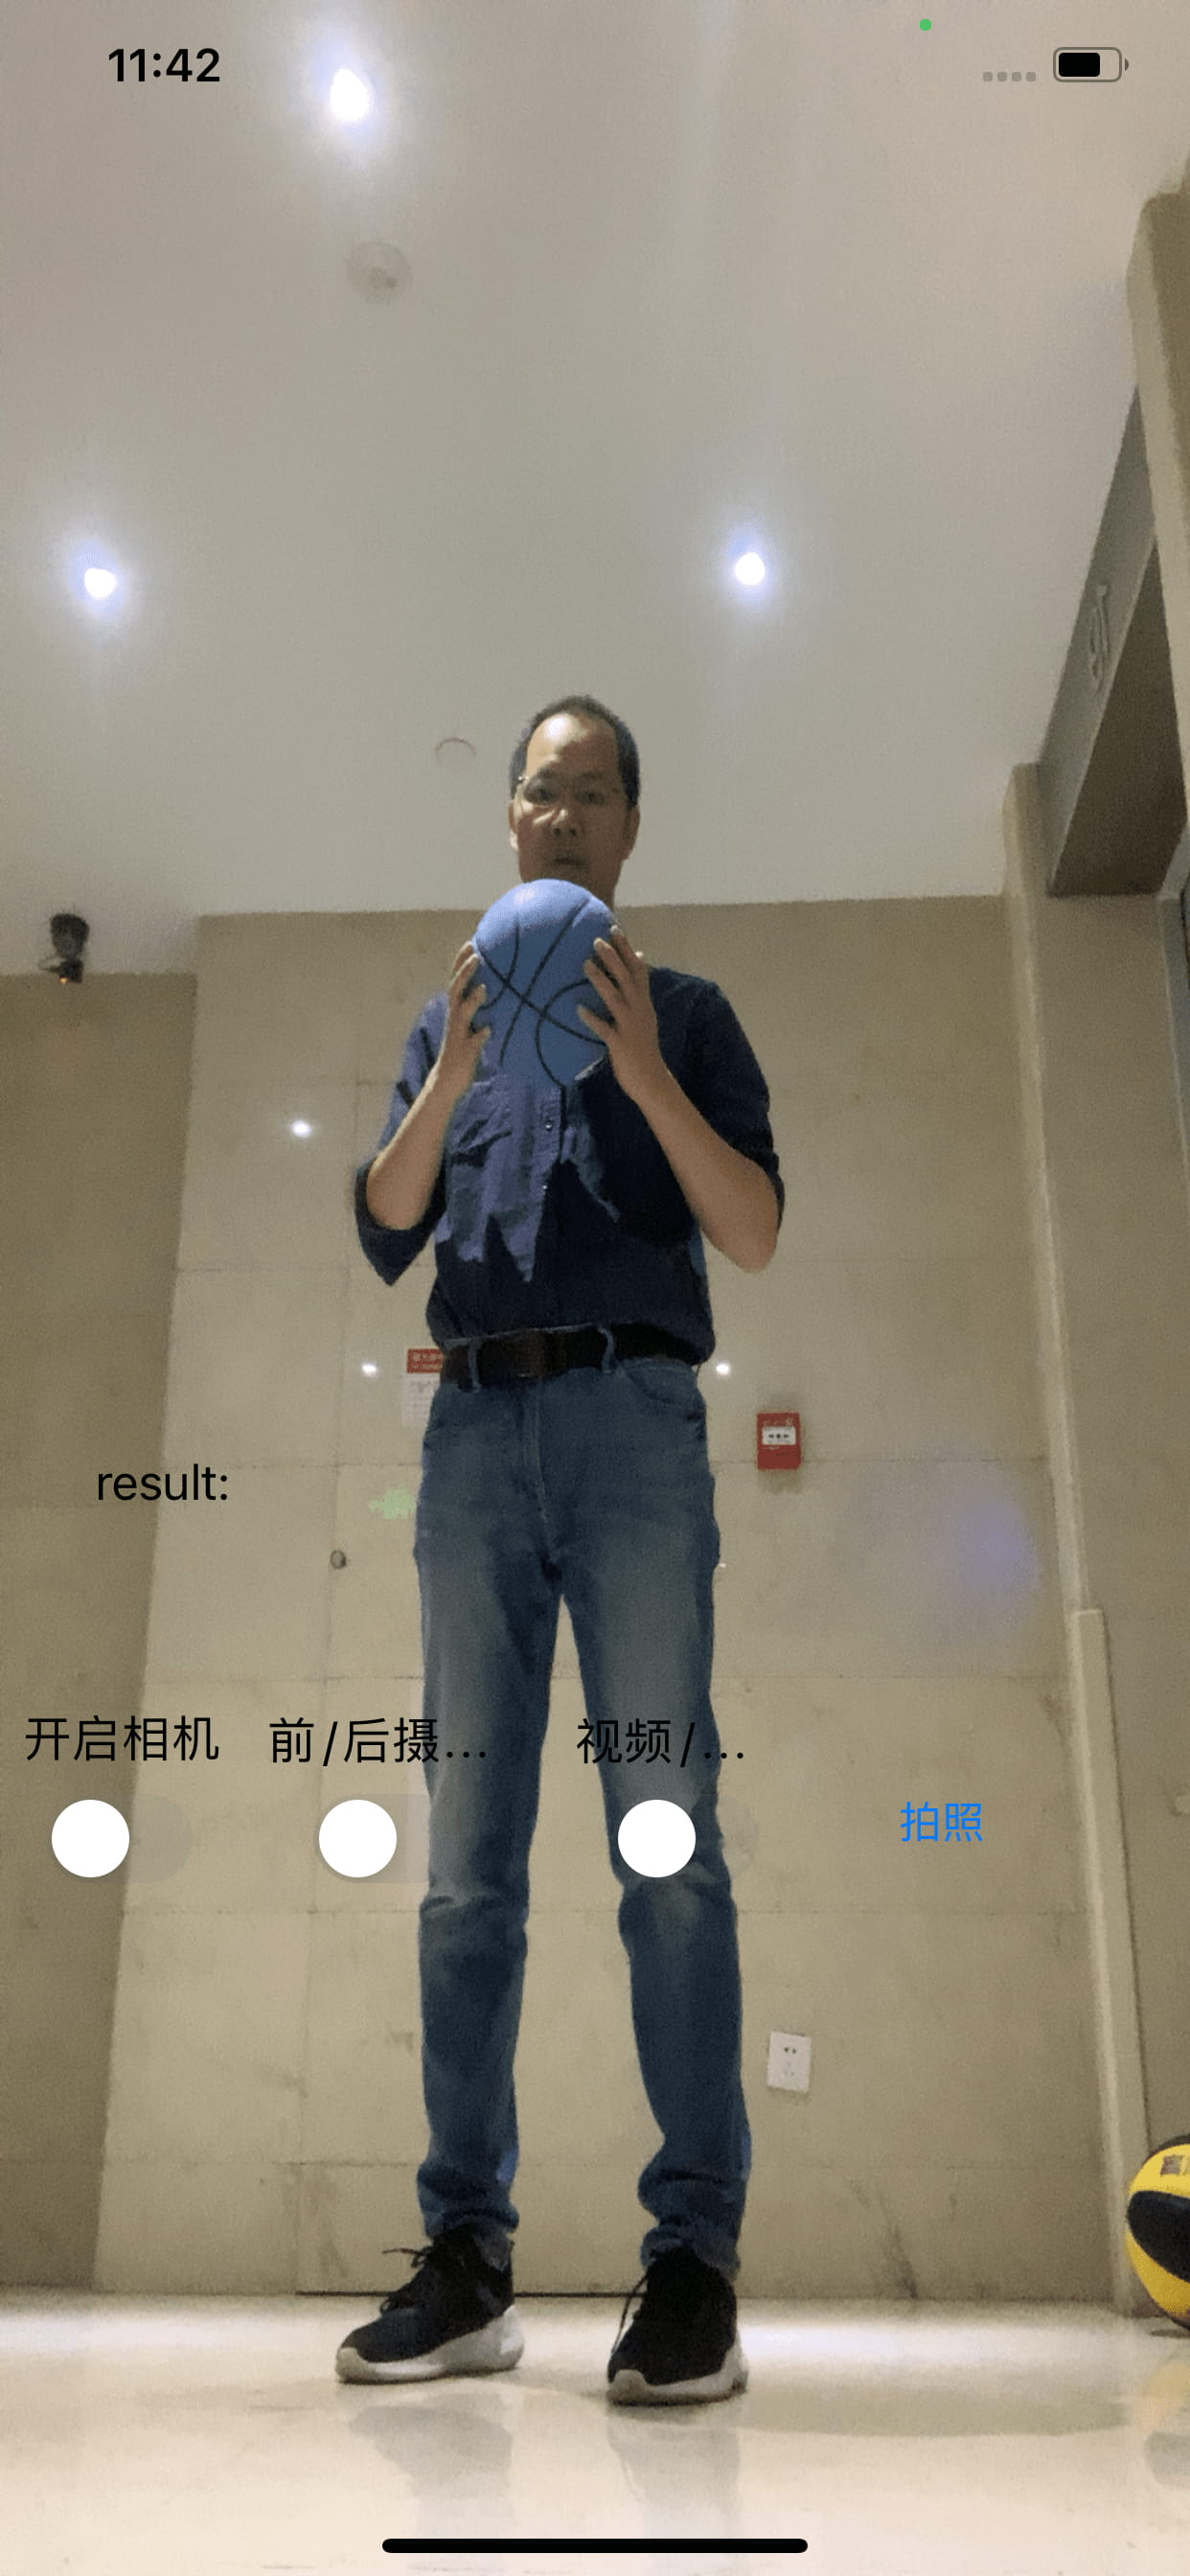ball: (464, 877, 631, 1084)
